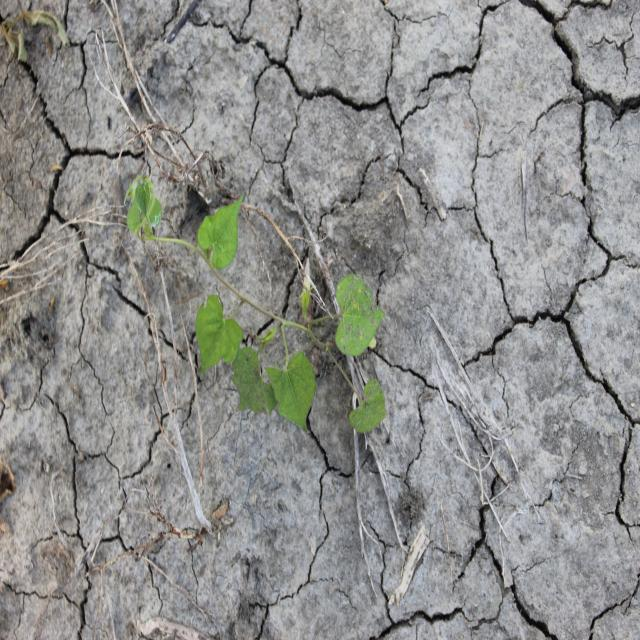MorningGlory: (123, 172, 390, 436)
